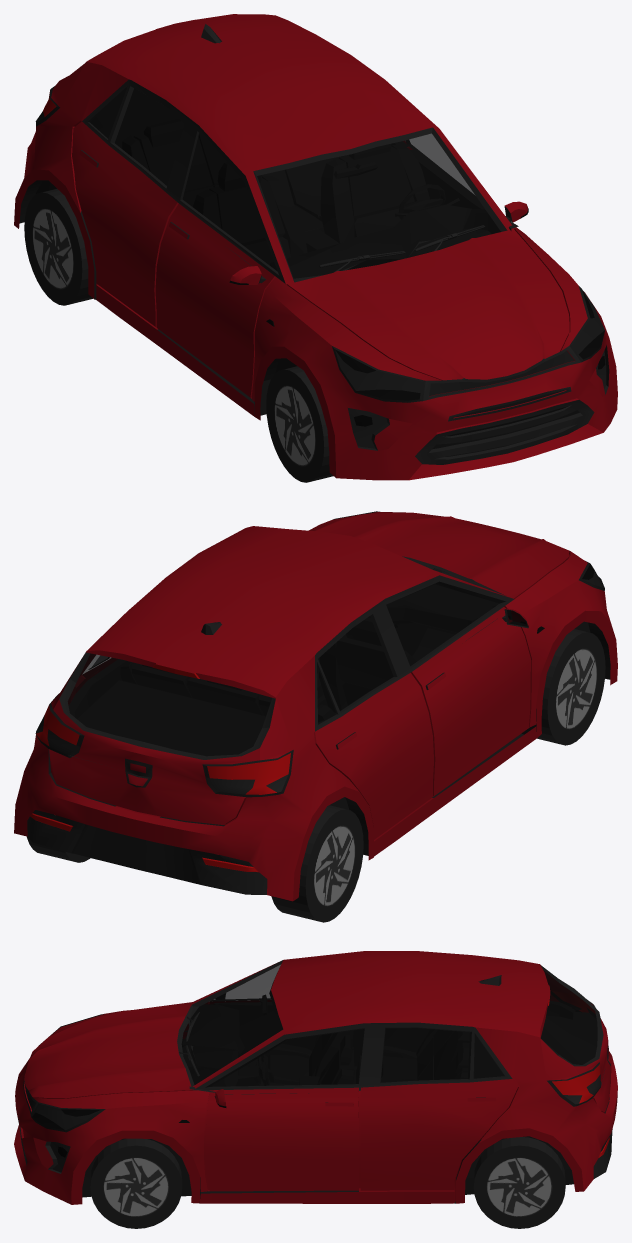
The model's file is Elka_red_fbx.fbx.
3 views of the same model, one above another, from view 1: azimuth 30°, elevation 25°; view 2: azimuth 150°, elevation 25°; view 3: azimuth 270°, elevation 25° (orthographic). The views are drawn at different scales.
Parts seen in each view (by area): view 1: Body, Interior, RearRightWheel, FrontRightWheel, Wiper; view 2: Body, Interior, RearRightWheel, FrontRightWheel; view 3: Body, Interior, RearLeftWheel, FrontLeftWheel.
Boxes of the visible parts, left/top/right/bottom form: Body: left=14, top=14, right=617, bottom=480; Interior: left=90, top=89, right=518, bottom=282; RearRightWheel: left=24, top=189, right=92, bottom=305; FrontRightWheel: left=266, top=366, right=333, bottom=482; Wiper: left=319, top=225, right=484, bottom=271; Body: left=14, top=511, right=617, bottom=901; Interior: left=69, top=584, right=498, bottom=760; RearRightWheel: left=271, top=805, right=363, bottom=922; FrontRightWheel: left=537, top=629, right=605, bottom=745; Body: left=14, top=951, right=617, bottom=1204; Interior: left=182, top=995, right=605, bottom=1094; RearLeftWheel: left=473, top=1137, right=565, bottom=1228; FrontLeftWheel: left=90, top=1138, right=182, bottom=1228.
Bounding box in the file's own units: 184 × 148 × 407.
Materials: 12 (4 with a texture image).
